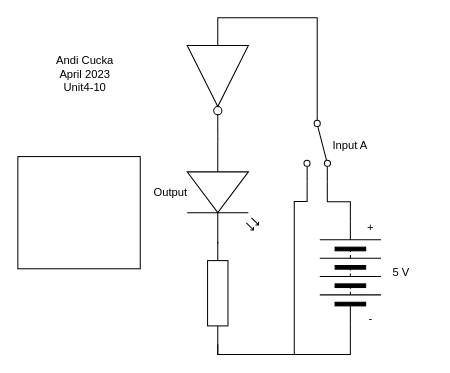
Some shapes in this 450 by 373 pixel diagram are drawn without their labels. Each missing label, with the centre of its shape:
220 Ω: pixel 217 292
NOT Gate with transistor A | Output ------------------- 0 | 1 1 | 0: pixel 78 212
